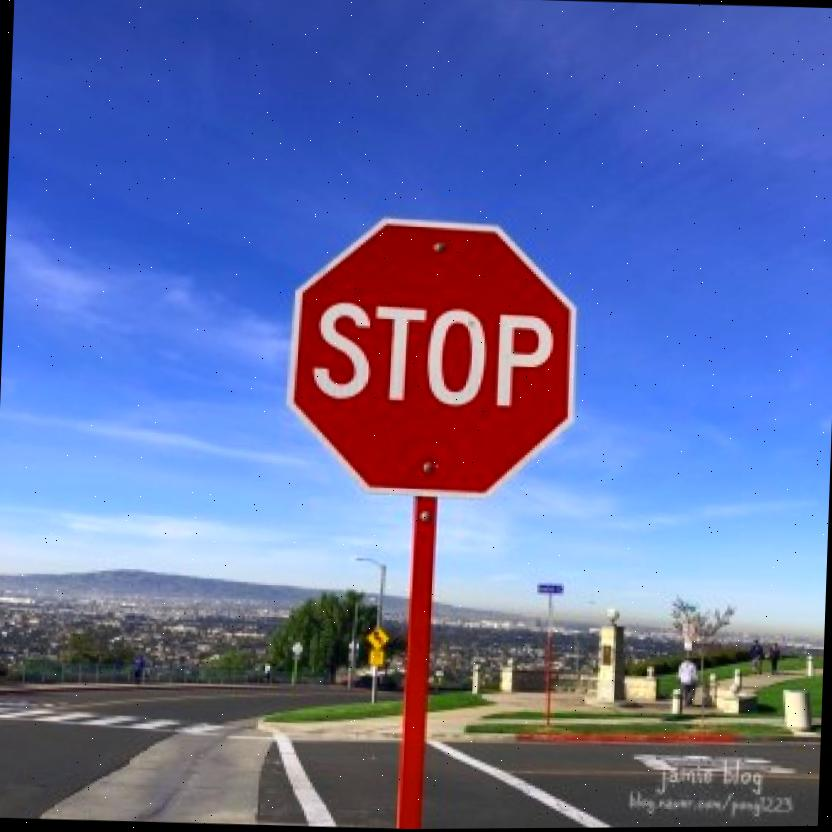Pole: (398, 496, 438, 824)
Sign: (281, 220, 584, 505)
